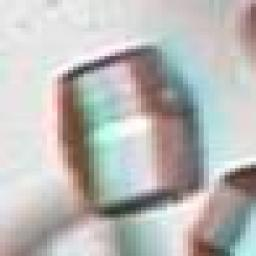crystals: (56, 43, 207, 223)
